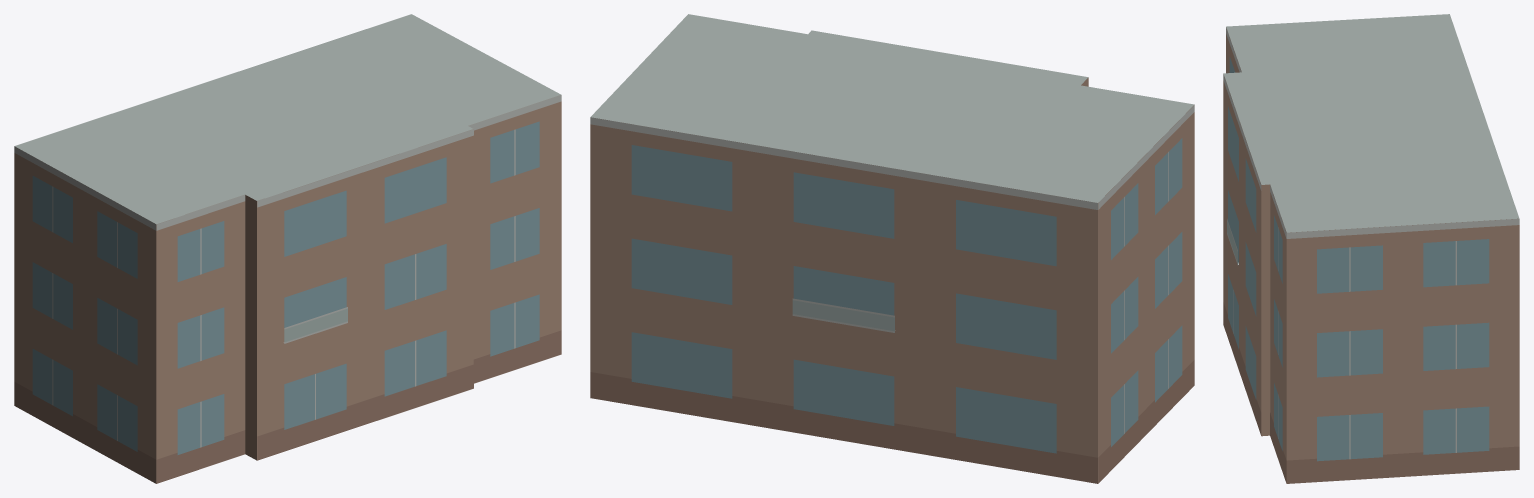
File: survey-upis-32909217.glb
3 views of the same model, side by side, from view 1: azimuth 30°, elevation 25°; view 2: azimuth 150°, elevation 25°; view 3: azimuth 270°, elevation 25° (orthographic). The views are drawn at different scales.
Parts seen in each view (by area): view 1: survey-upis-32909217.tmp; view 2: survey-upis-32909217.tmp; view 3: survey-upis-32909217.tmp.
Part boxes in pixels (x1=…): survey-upis-32909217.tmp: x1=14, y1=14, x2=561, y2=483; survey-upis-32909217.tmp: x1=590, y1=14, x2=1194, y2=483; survey-upis-32909217.tmp: x1=1223, y1=14, x2=1519, y2=483.
Bounding box in the file's own units: 17.93 × 9.6 × 10.27.
